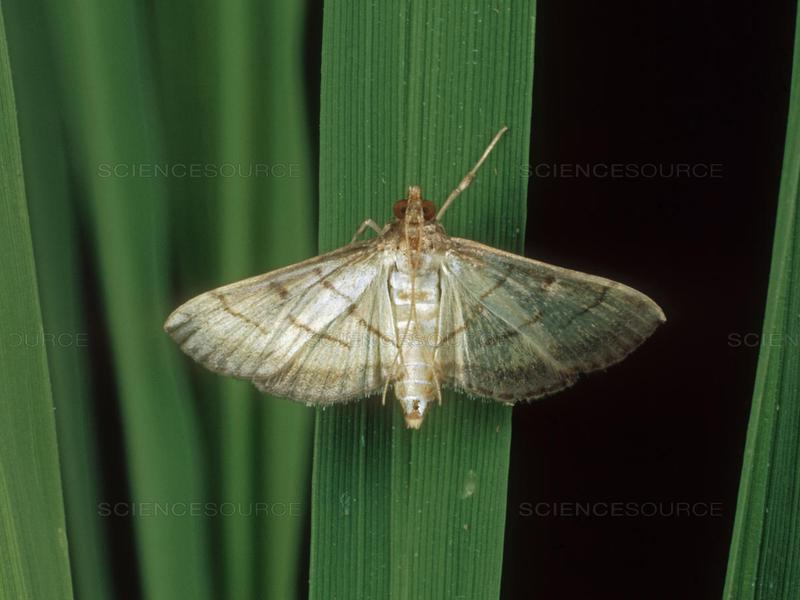Leaf_folder: (157, 180, 674, 434)
